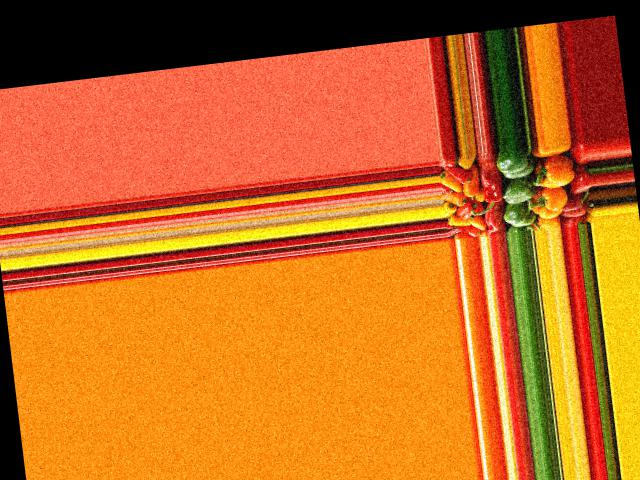bell_pepper: (442, 161, 472, 186)
